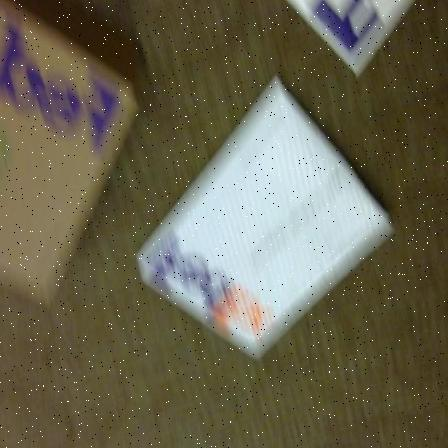FedEx: (122, 75, 384, 354), (0, 0, 142, 293), (272, 0, 423, 66)
